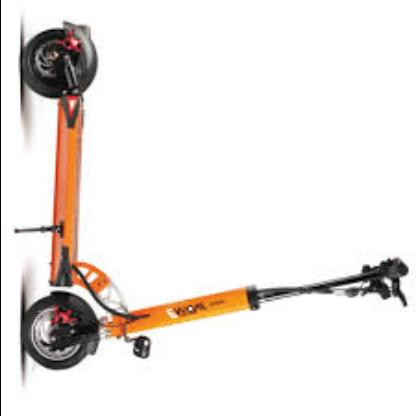bike: (13, 18, 414, 374)
